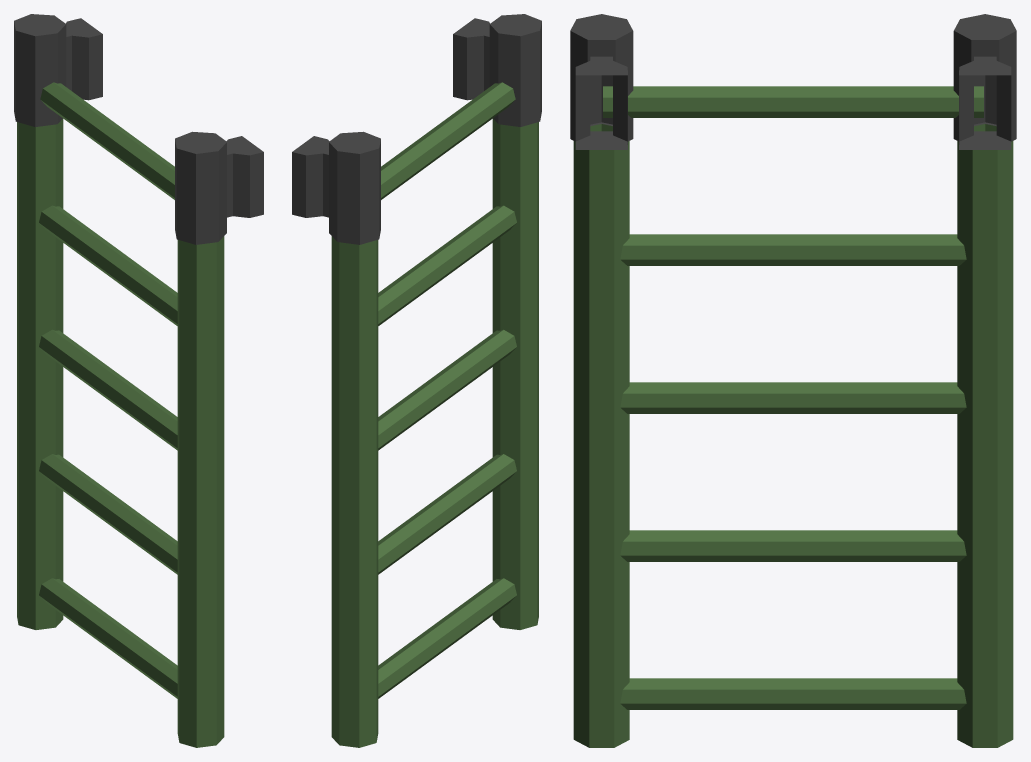
The model's file is VerticalLadder1-2.fbx.
3 views of the same model, side by side, from view 1: azimuth 30°, elevation 25°; view 2: azimuth 150°, elevation 25°; view 3: azimuth 270°, elevation 25° (orthographic). The views are drawn at different scales.
Visible parts, largest first — view 1: VerticalLadder_LOD0.001; view 2: VerticalLadder_LOD0.001; view 3: VerticalLadder_LOD0.001.
Boxes of the visible parts, bbox=[...] form: VerticalLadder_LOD0.001: bbox=[14, 14, 263, 747]; VerticalLadder_LOD0.001: bbox=[292, 14, 541, 747]; VerticalLadder_LOD0.001: bbox=[570, 14, 1016, 747].
Size of the model in its own units: 44.5 by 332 by 189.
1 material, 1 textured.
